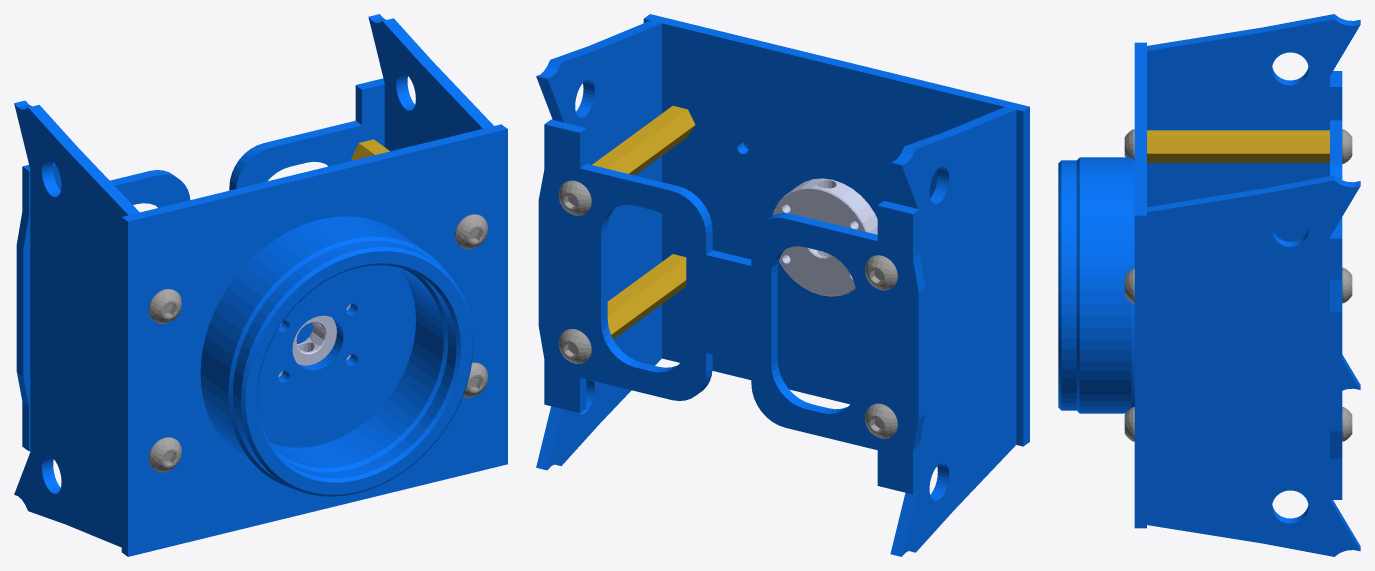
The model's file is gripper_frame_visuals_Mesh.obj.
3 views of the same model, side by side, from view 1: azimuth 30°, elevation 25°; view 2: azimuth 150°, elevation 25°; view 3: azimuth 270°, elevation 25° (orthographic). The views are drawn at different scales.
Bounding box in the file's own units: 0.067 × 0.068 × 0.0495.
